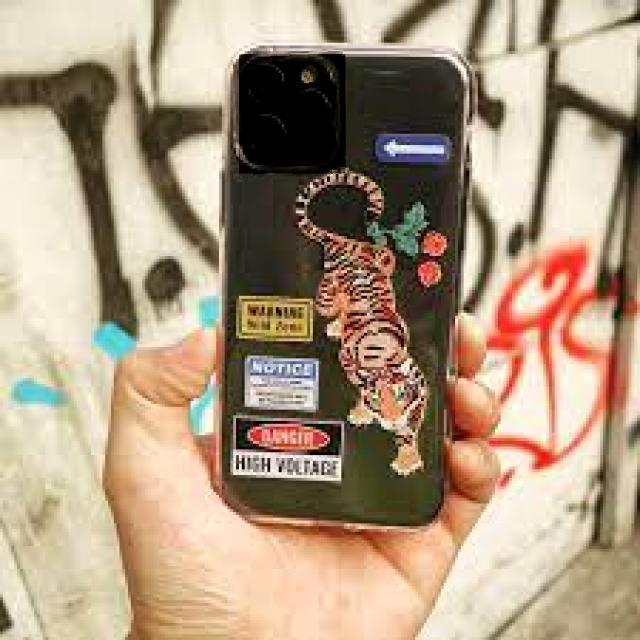lens_back: (251, 109, 293, 162), (291, 86, 335, 130), (244, 62, 289, 104)
phone: (217, 35, 478, 530)
